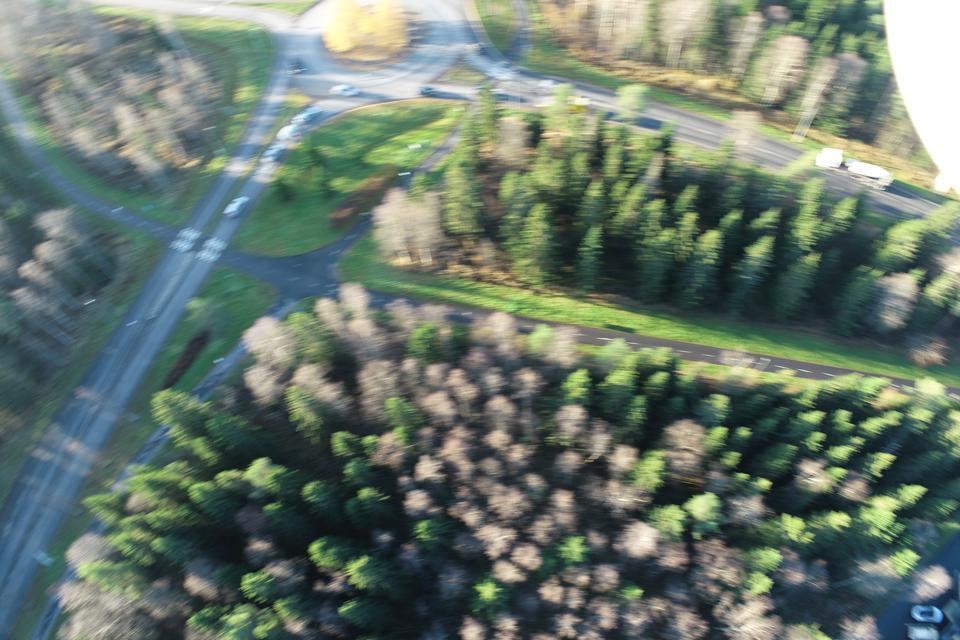intersection: (129, 181, 263, 303), (480, 34, 528, 113)
roundabout: (222, 0, 473, 134)
